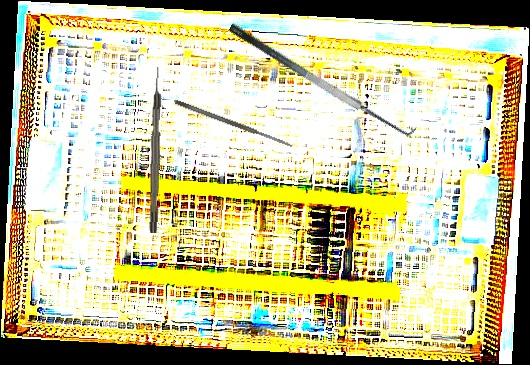Hook Surgical: (148, 66, 163, 234)
Spatula Surgical: (227, 7, 420, 148), (173, 98, 295, 150)
